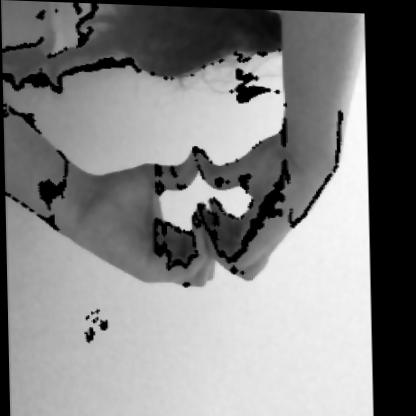heart: (49, 116, 343, 306)
